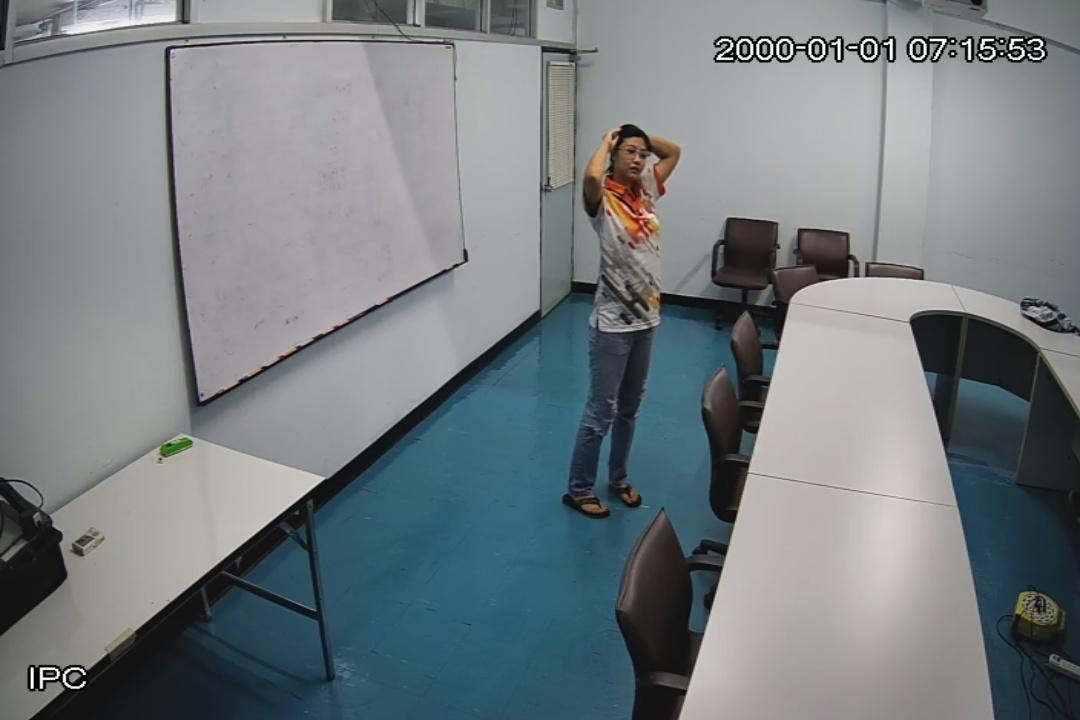normal: (564, 112, 686, 524)
